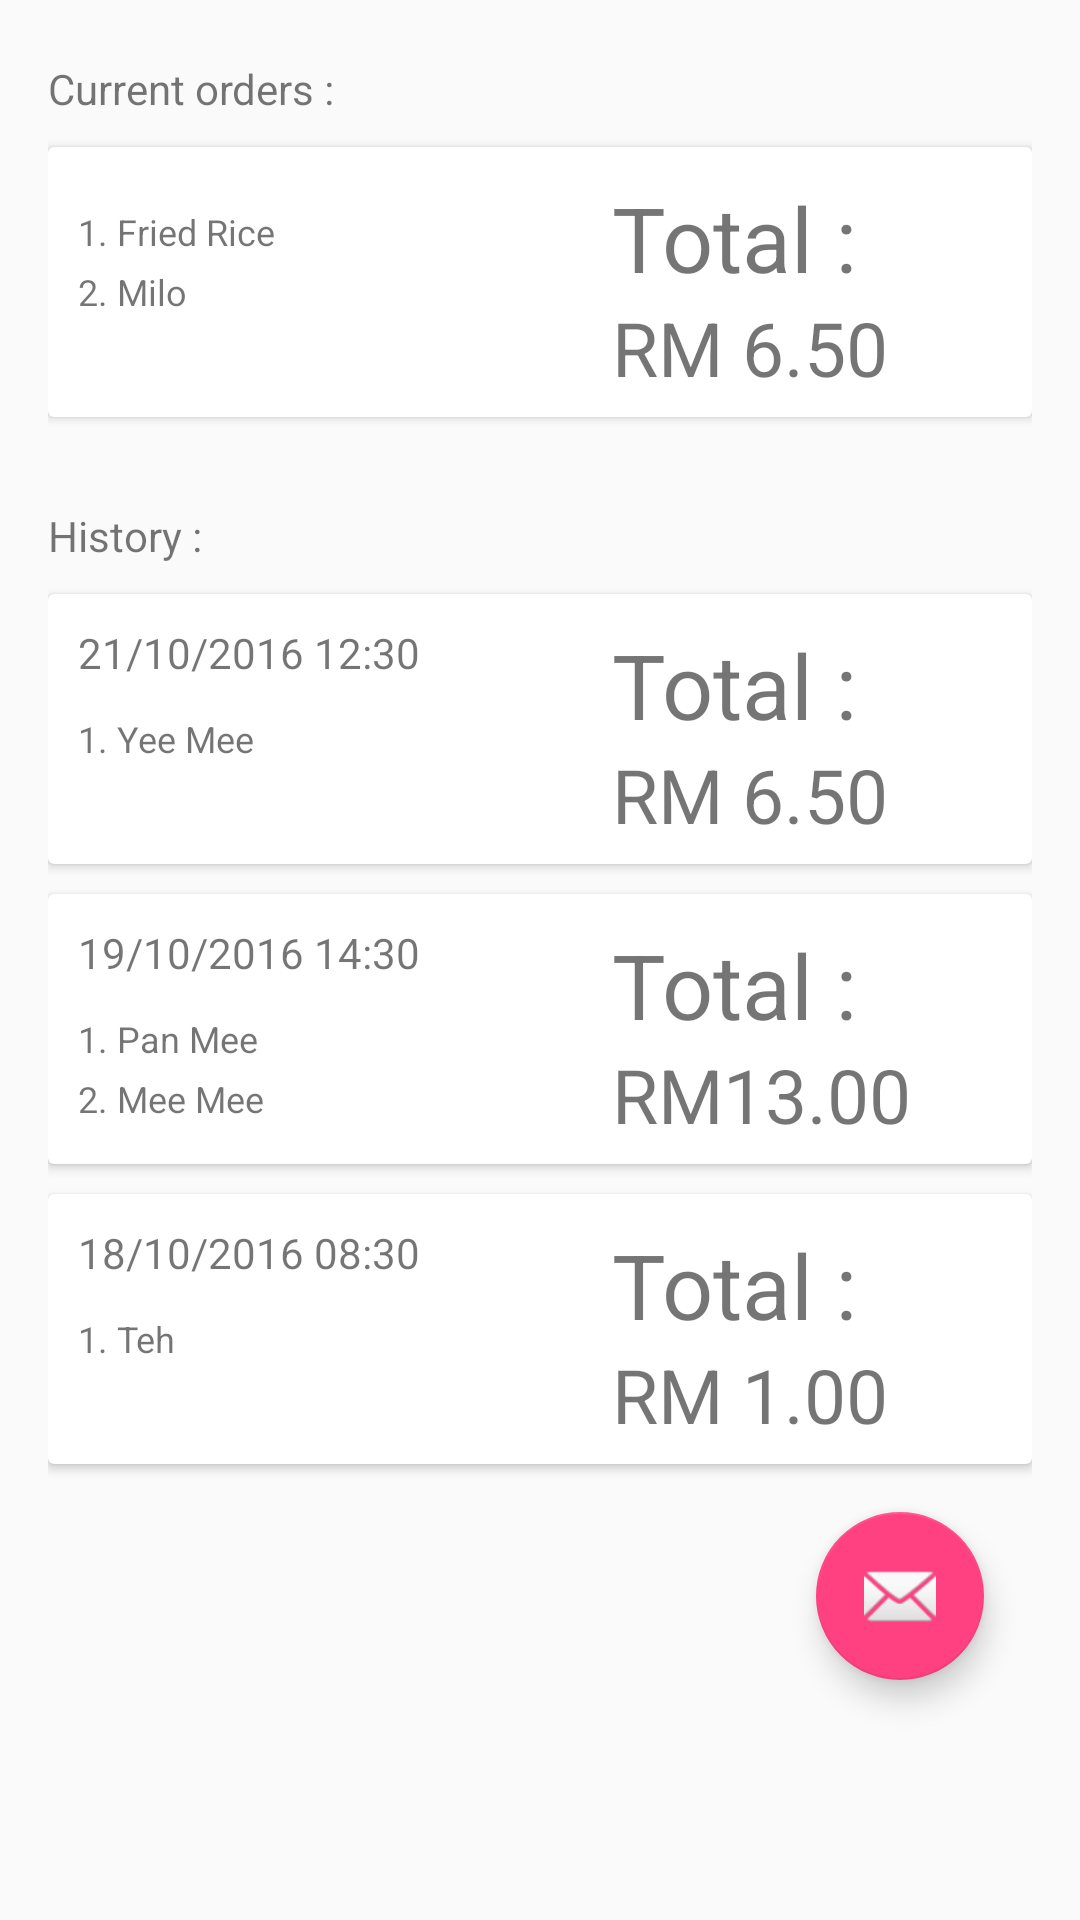

Icons on this 1080w x 1920h Android screen, each with its box as [left=x1, top=y1, right=x2, bottom=y2]:
email: [left=816, top=1512, right=984, bottom=1680]
